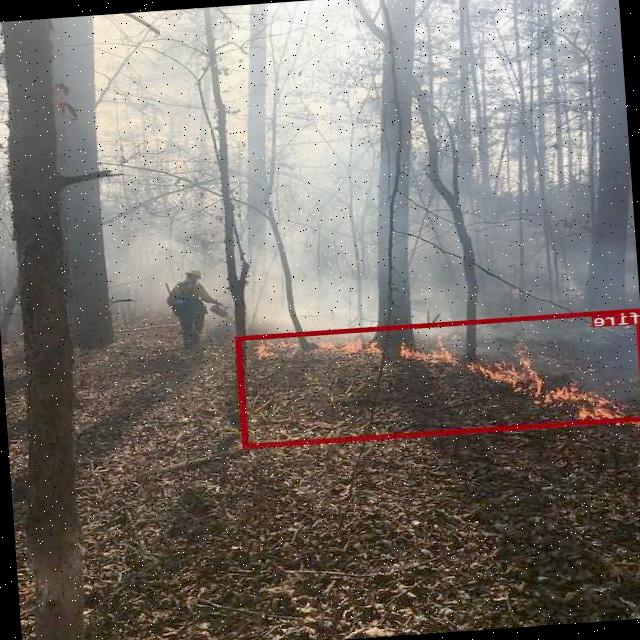fire: (237, 307, 640, 447)
